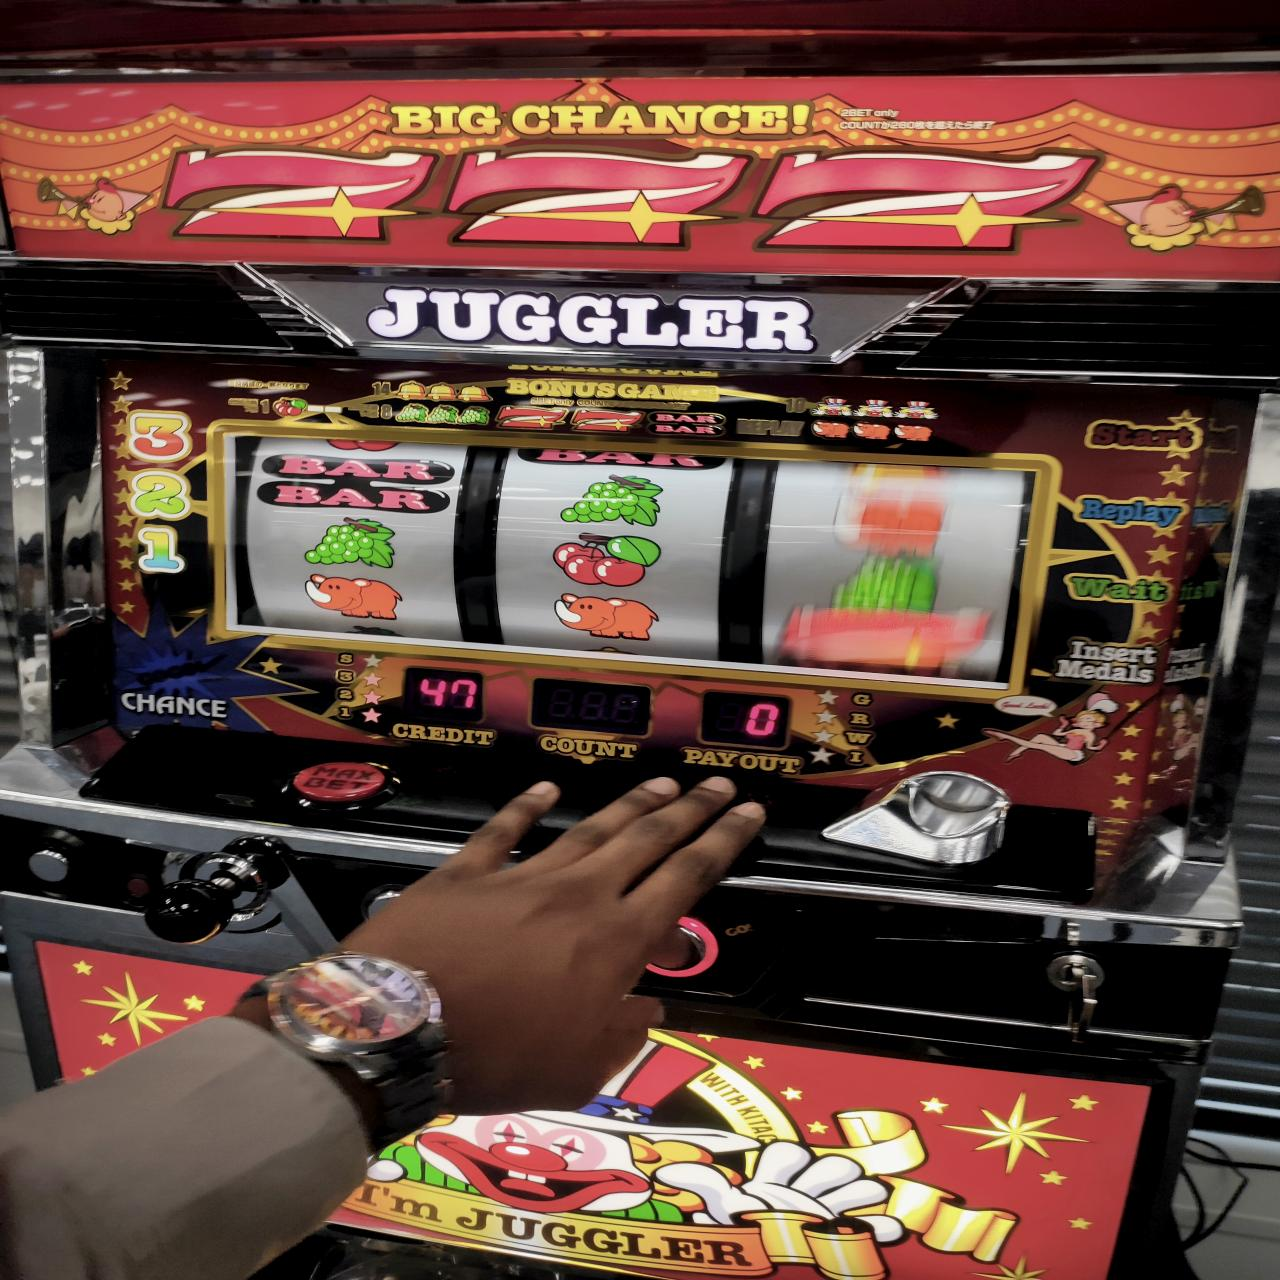8: (551, 594, 659, 641), (301, 574, 403, 622)
bar: (253, 451, 455, 512)
cherry: (549, 531, 663, 590)
grape: (561, 472, 660, 527), (300, 515, 395, 567)
rhino: (224, 427, 1046, 690)
